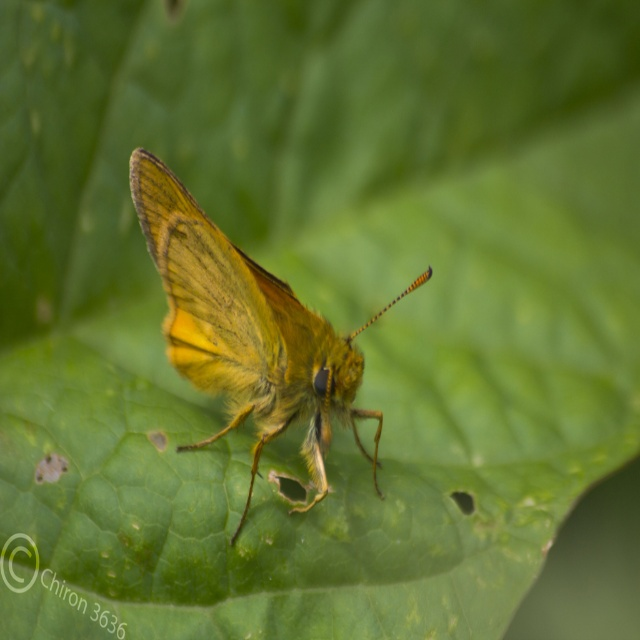Butterfly: (131, 124, 415, 566)
